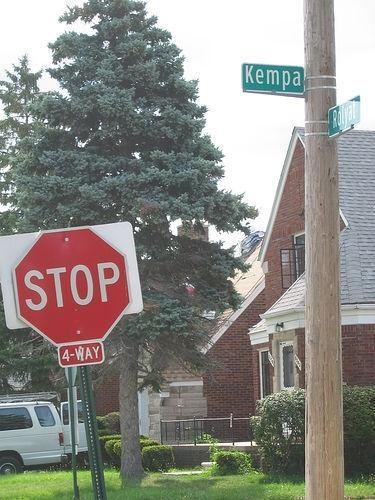truck: (0, 391, 87, 477)
